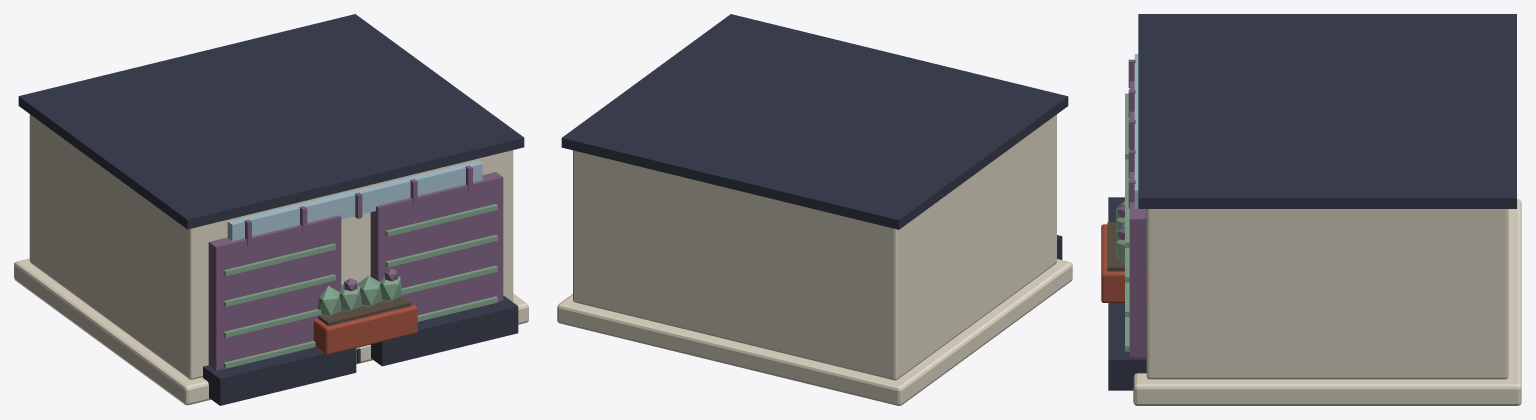
The model's file is base_warehouse_gardens.glb.
3 views of the same model, side by side, from view 1: azimuth 30°, elevation 25°; view 2: azimuth 150°, elevation 25°; view 3: azimuth 270°, elevation 25° (orthographic). The views are drawn at different scales.
Parts seen in each view (by area): view 1: base_warehouse_gardens ink, base_warehouse_gardens mist, base_warehouse_gardens patina, base_warehouse_gardens pine, base_warehouse_gardens glass, base_warehouse_gardens clay, base_warehouse_gardens leaf, base_warehouse_gardens soil; view 2: base_warehouse_gardens mist, base_warehouse_gardens ink; view 3: base_warehouse_gardens ink, base_warehouse_gardens mist, base_warehouse_gardens patina, base_warehouse_gardens pine, base_warehouse_gardens clay, base_warehouse_gardens glass, base_warehouse_gardens soil.
Boxes of the visible parts, x1,y1,x2,y2 form: base_warehouse_gardens ink: (18,14,524,405); base_warehouse_gardens mist: (14,114,528,405); base_warehouse_gardens patina: (208,165,503,370); base_warehouse_gardens pine: (223,204,497,368); base_warehouse_gardens glass: (227,160,482,241); base_warehouse_gardens clay: (313,298,417,354); base_warehouse_gardens leaf: (317,276,381,316); base_warehouse_gardens soil: (318,296,411,325); base_warehouse_gardens mist: (557,114,1072,405); base_warehouse_gardens ink: (561,14,1068,259); base_warehouse_gardens ink: (1108,14,1516,390); base_warehouse_gardens mist: (1133,199,1521,405); base_warehouse_gardens patina: (1128,59,1146,357); base_warehouse_gardens pine: (1116,93,1129,351); base_warehouse_gardens clay: (1101,224,1146,302); base_warehouse_gardens glass: (1134,54,1138,208); base_warehouse_gardens soil: (1107,222,1146,271).
Bounding box in the file's own units: 0.935 × 0.48 × 0.8825.
